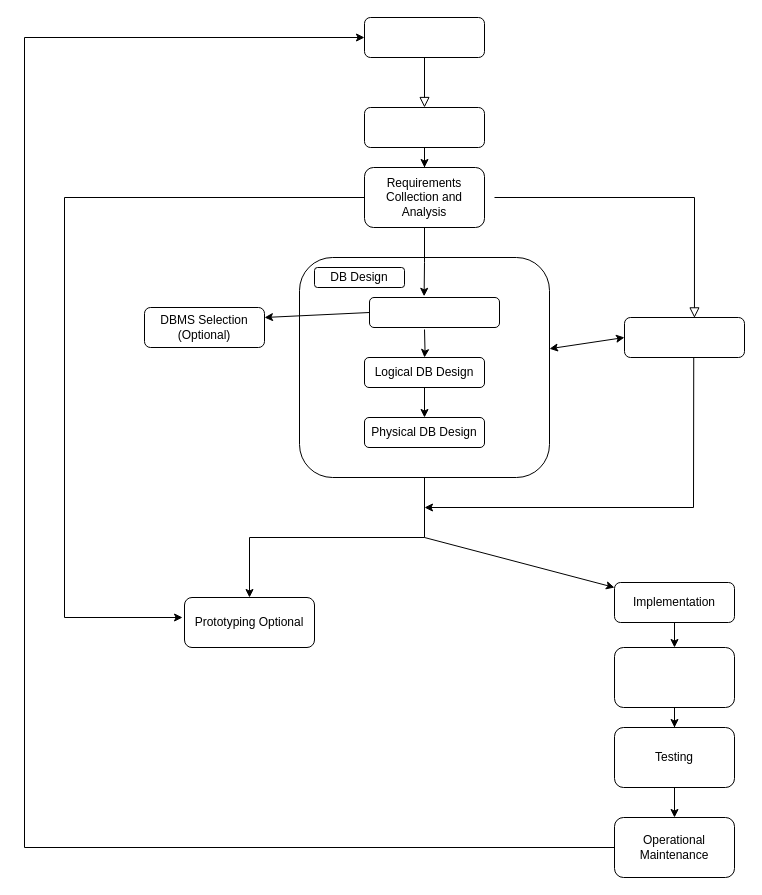
Image size: 762x895. Some labels were removed from this diagram. Each missing label, with the centre of its shape:
"Application Design" belongs at point (684, 337).
"Conceptual DB Design" belongs at point (434, 312).
"Data Conversion and Loading" belongs at point (674, 677).
"Database Planning" belongs at point (424, 37).
"System Definition" belongs at point (424, 127).
